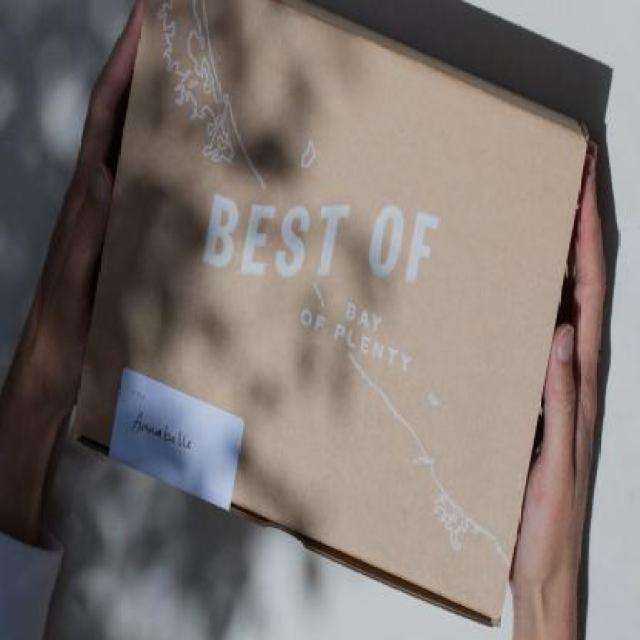box: (70, 0, 595, 634)
